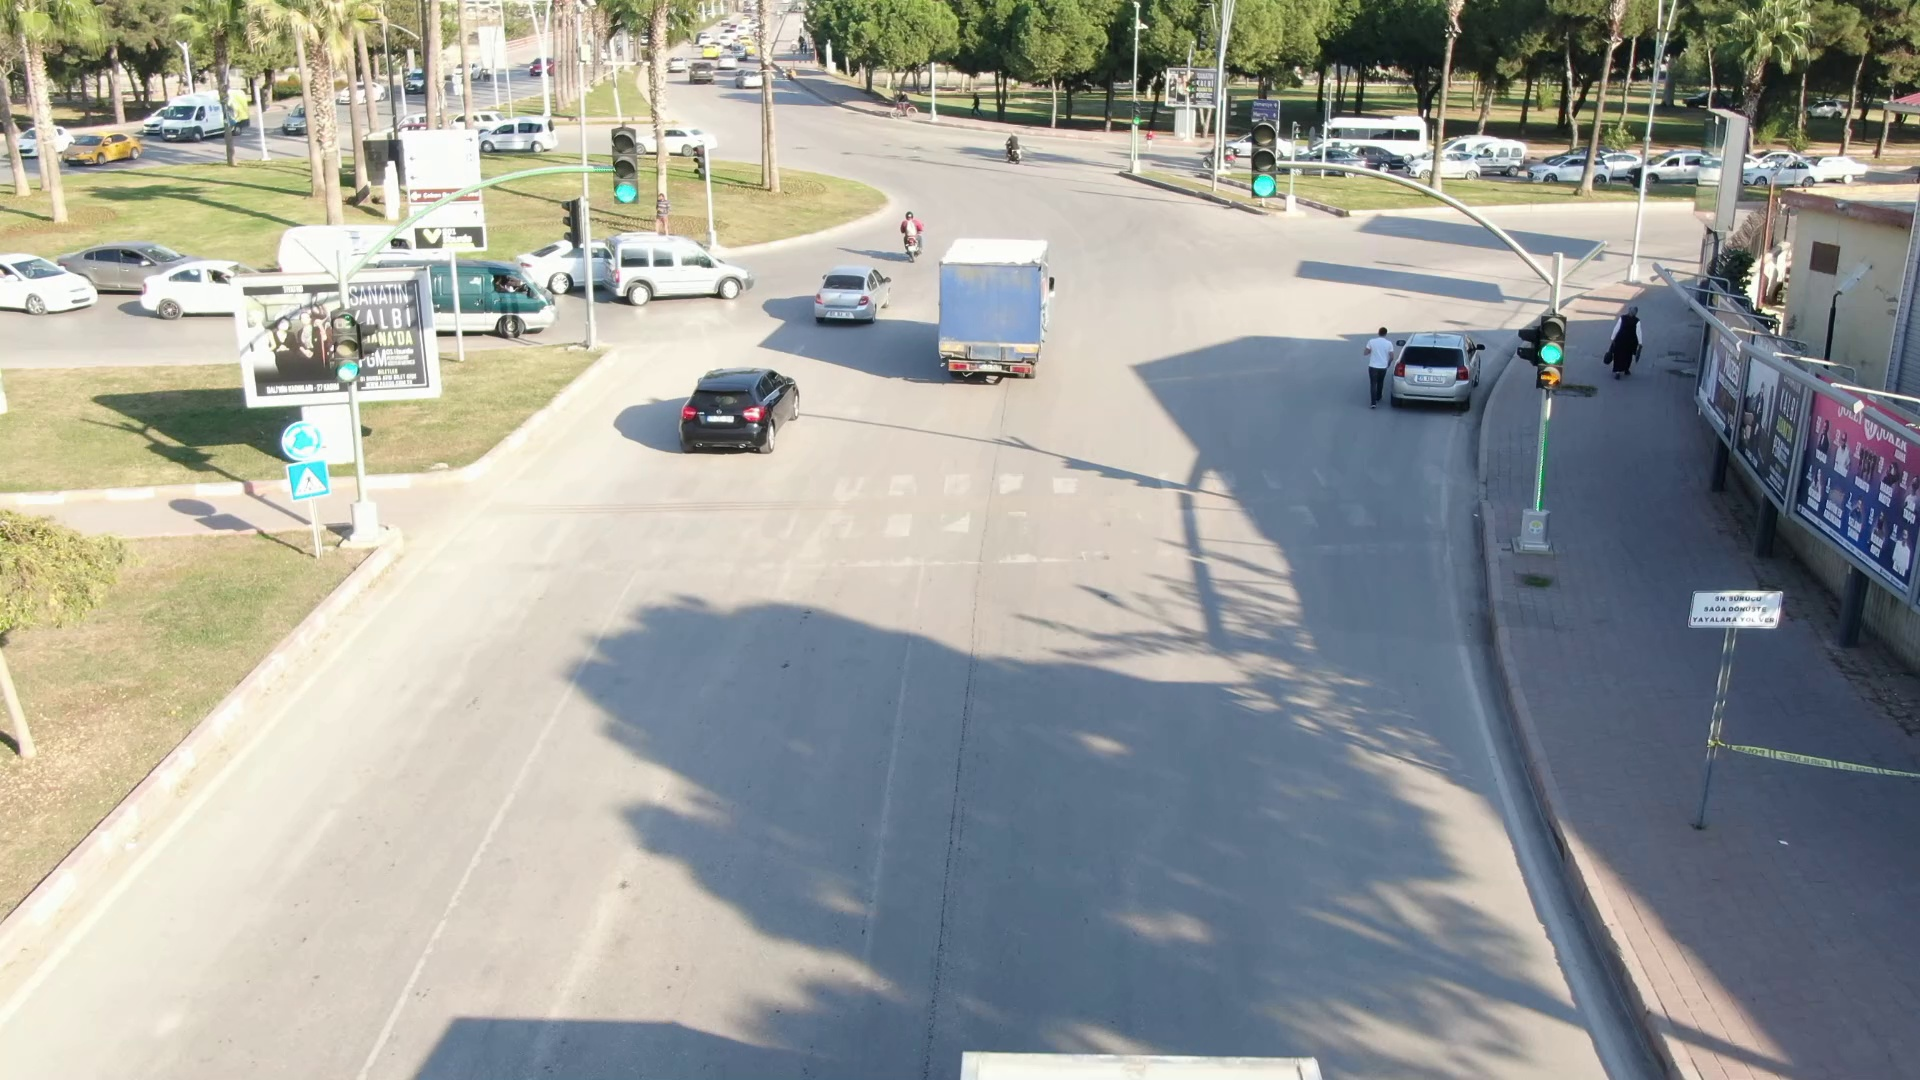car: (597, 221, 773, 312), (675, 350, 812, 460), (1390, 320, 1487, 428), (786, 258, 903, 330), (1, 252, 117, 323), (141, 99, 247, 145), (54, 113, 138, 169), (482, 106, 562, 150), (1514, 156, 1612, 186), (669, 54, 719, 84)
person: (1597, 300, 1649, 383), (1355, 327, 1395, 406)
